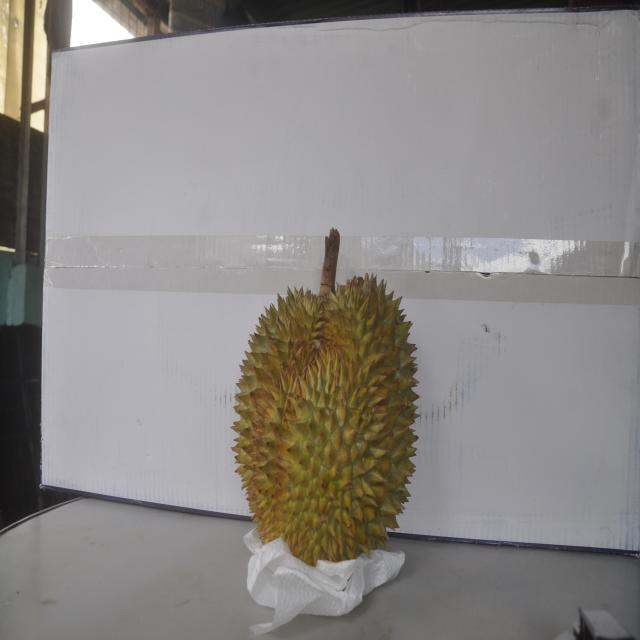mature: (233, 274, 419, 566)
